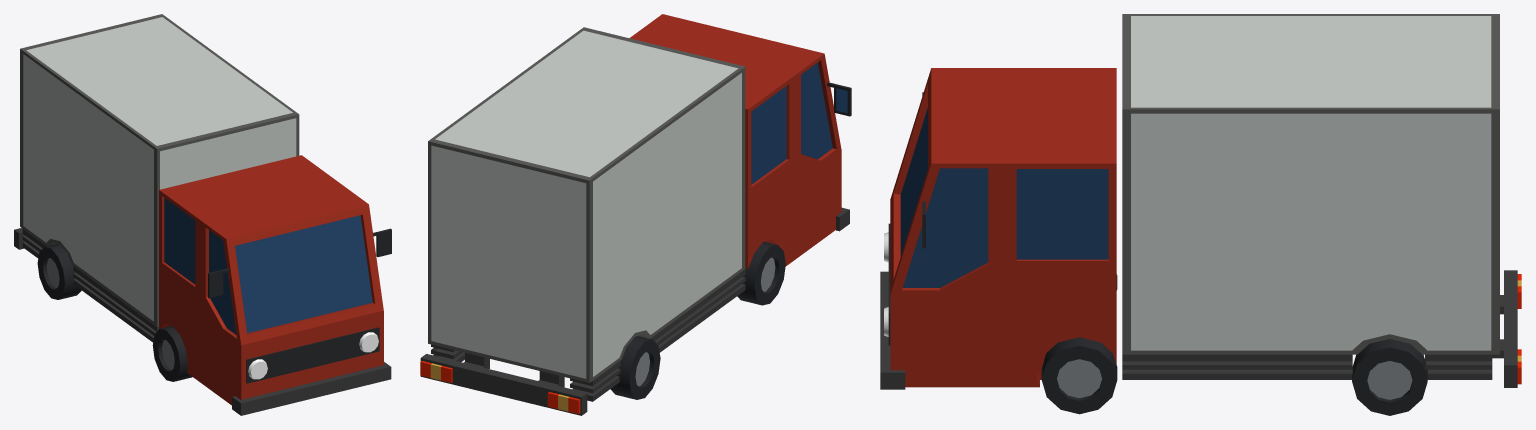
The model's file is Truck_2.fbx.
3 views of the same model, side by side, from view 1: azimuth 30°, elevation 25°; view 2: azimuth 150°, elevation 25°; view 3: azimuth 270°, elevation 25° (orthographic). The views are drawn at different scales.
Parts seen in each view (by area): view 1: Truck_2; view 2: Truck_2; view 3: Truck_2.
Part boxes in pixels (bbox=[...]): Truck_2: bbox=[14, 14, 391, 415]; Truck_2: bbox=[420, 14, 851, 415]; Truck_2: bbox=[880, 14, 1521, 415].
Bounding box in the file's own units: 282 × 322 × 623.
